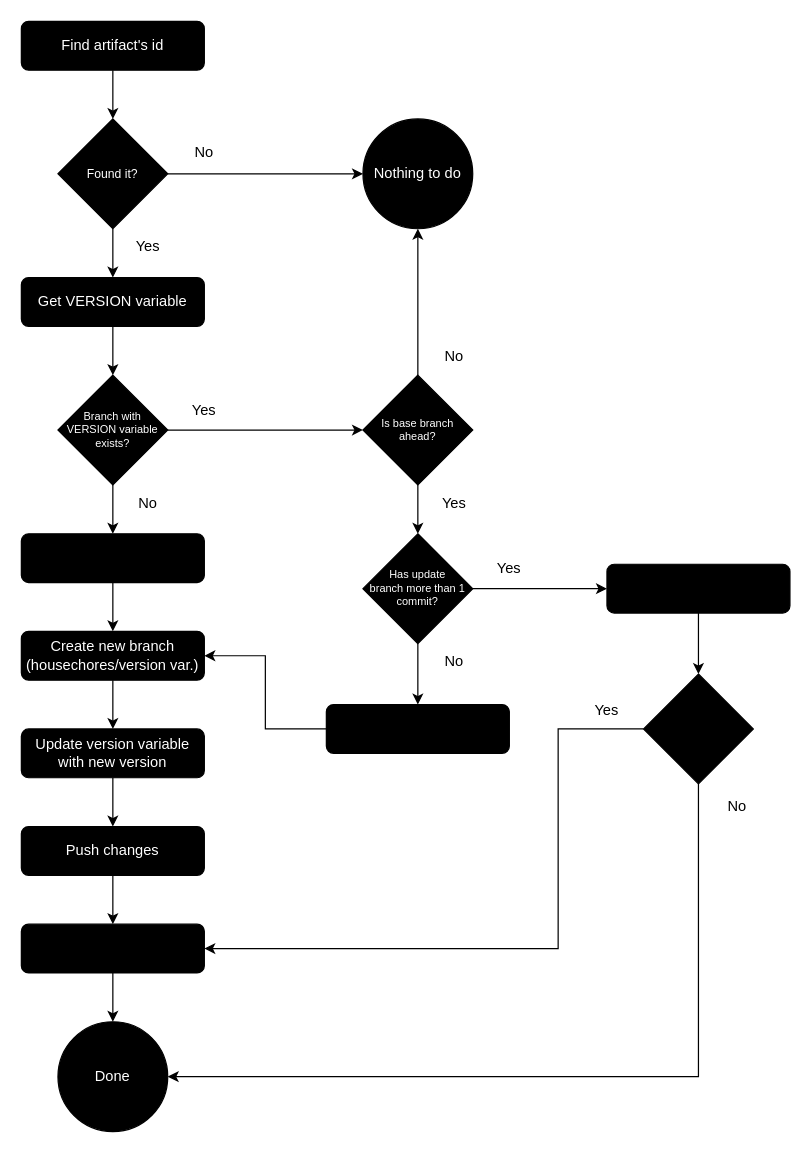
Some shapes in this 811 by 1153 pixel diagram are drawn without their labels. The centre of each missing label's shape, as x and y in pixels:
Call callback script: (x=112, y=948)
Checkout base branch: (x=112, y=558)
Delete previous update branch: (x=417, y=728)
Try rebasing...: (x=698, y=588)
Was a success?: (x=697, y=728)
